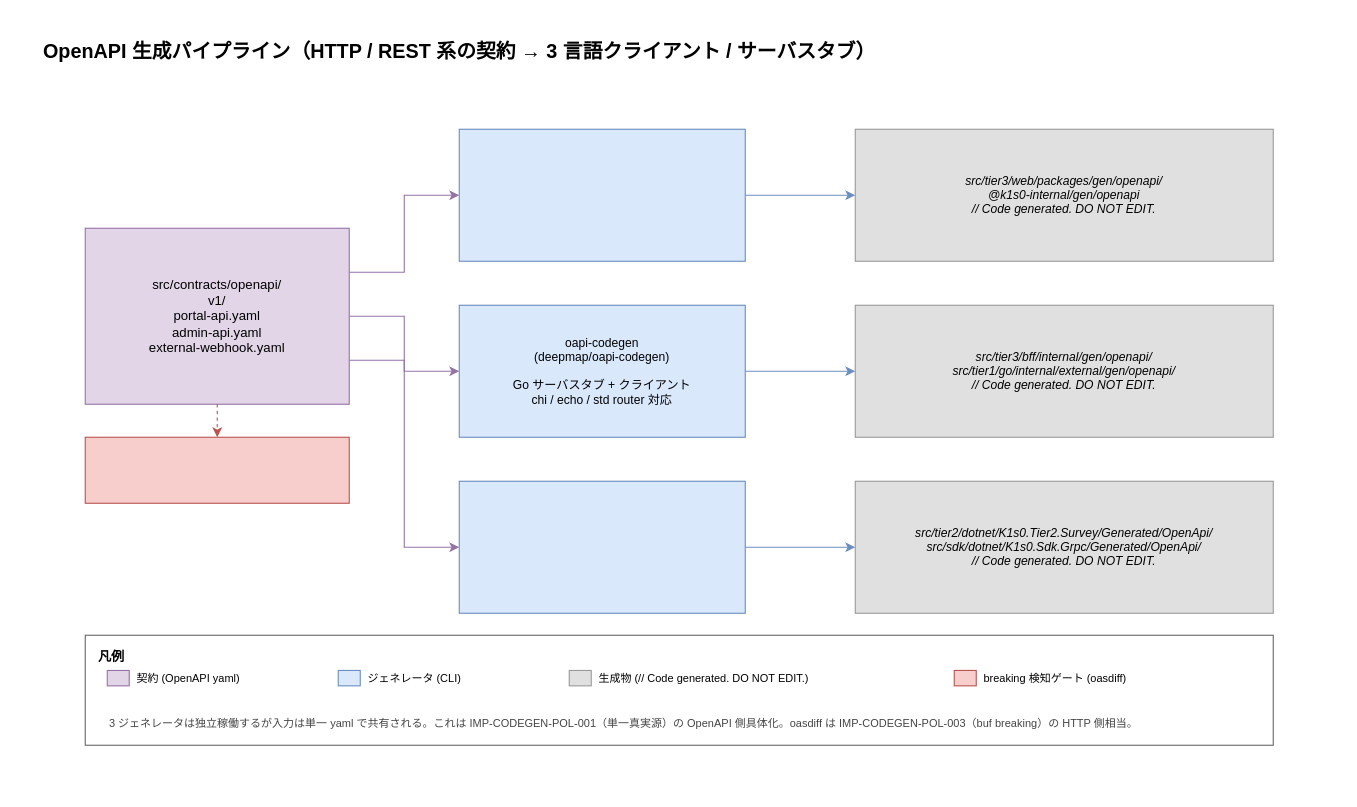
Image size: 1357x807. Some labels were removed from this diagram. Here are the shapes that lost their labels. From the top down, the centre of each, then its label:
At [601,194]: "openapi-typescript (public.io/openapi-typescript) TS フェッチクライアント生成 型: 純粋 .d.ts".
At [216,469]: "oasdiff (breaking 検知) CI ステージで yaml 変更時に必須実行".
At [601,546]: "NSwag.MSBuild (RicoSuter/NSwag) C# クライアント生成 System.Net.Http 上に直接マップ".
